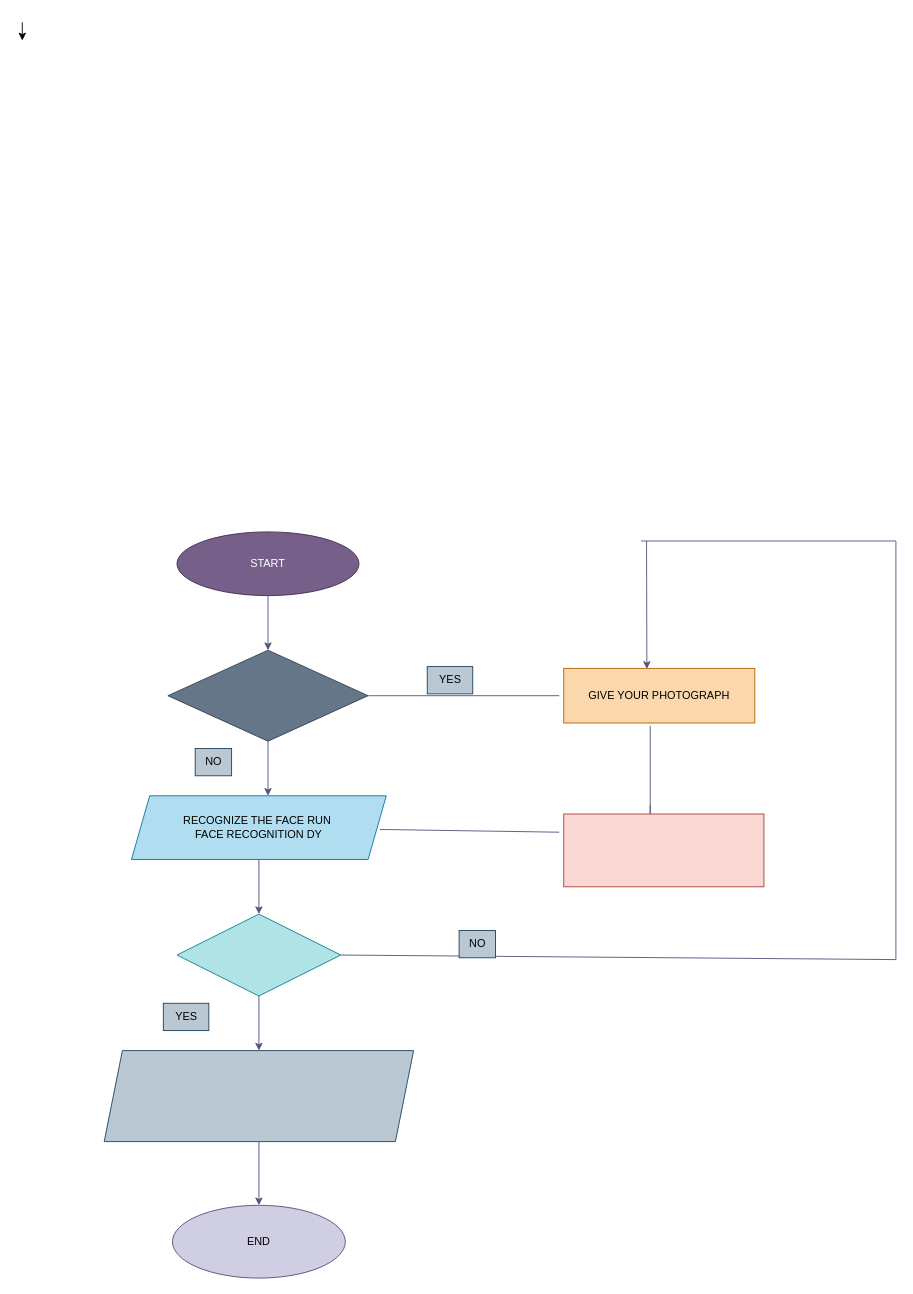
The diagram is 913 pixels wide and 1294 high, and some of its shapes have lost their labels. The shapes that lost their labels are listed below. From the top down, each one's box as (x1, y1, x2, y2) in pixels, then its label:
(167, 649, 368, 741): NEW USER RUN CREATE DATABASE SET DY
(563, 813, 764, 887): STORE THE FACE DATA IN FOLDER ON YOUR NAME
(176, 913, 341, 996): FACE RECOGNIZED
(103, 1050, 414, 1142): STORED IN CSV FILE REGISTRATION NUMBER AND DATE, TIME OF ENTRY
